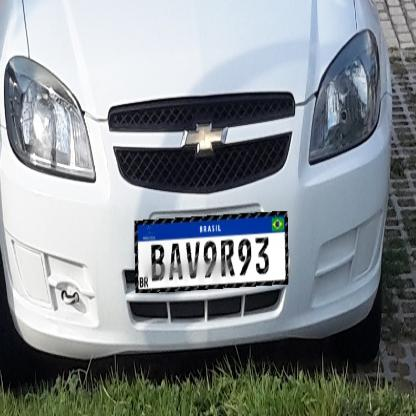PlacaM: (134, 211, 288, 293)
